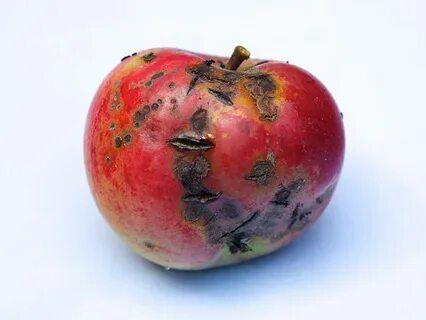Apple: (83, 48, 346, 270)
